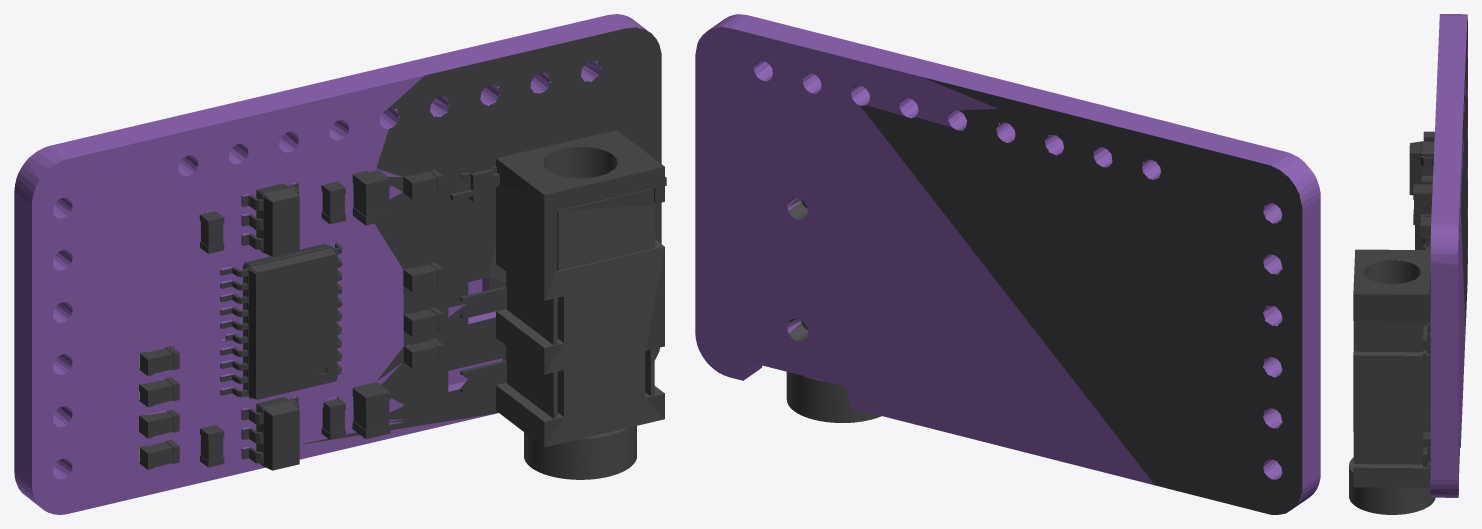
Rendered from dac.glb.
3 views of the same model, side by side, from view 1: azimuth 30°, elevation 25°; view 2: azimuth 150°, elevation 25°; view 3: azimuth 270°, elevation 25° (orthographic). The views are drawn at different scales.
Parts seen in each view (by area): view 1: c0, c1, c2; view 2: c0, c1, c2; view 3: c2, c0, c1.
Part boxes in pixels (x1=…): c0: x1=14, y1=14, x2=648, y2=514; c1: x1=139, y1=27, x2=666, y2=470; c2: x1=489, y1=147, x2=664, y2=479; c0: x1=695, y1=14, x2=1320, y2=510; c1: x1=860, y1=77, x2=1302, y2=514; c2: x1=786, y1=105, x2=881, y2=422; c2: x1=1349, y1=260, x2=1459, y2=514; c0: x1=1430, y1=14, x2=1467, y2=497; c1: x1=1353, y1=15, x2=1467, y2=466.
Bounding box in the file's own units: 31.82 × 19.1 × 6.86.
